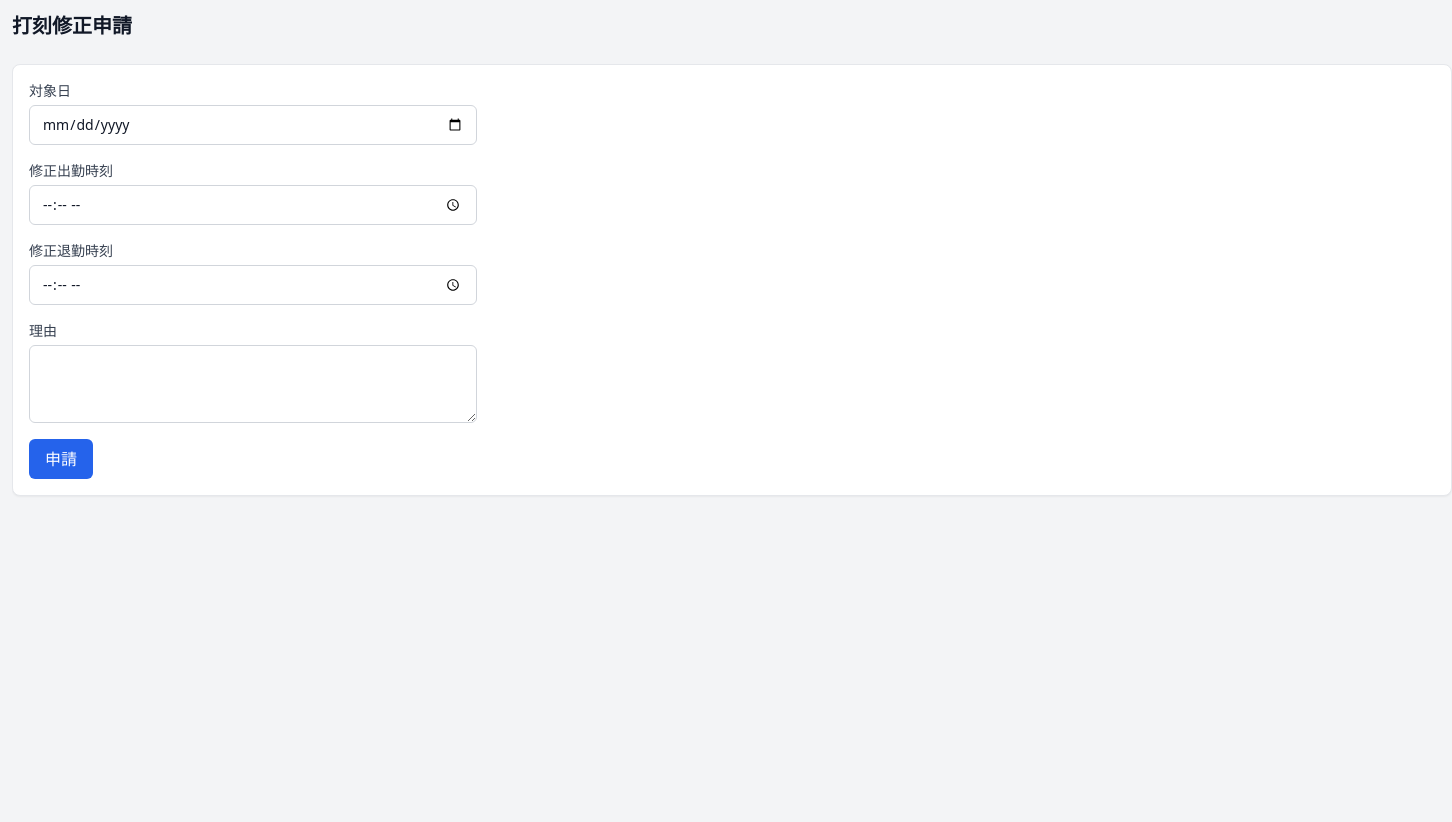
Test: CorrectionsNewPage › 理由未入力で申請するとバリデーションエラーが表示される
This screenshot has width=1452, height=822.
Type "2026-07-10" into the date field labelled "対象日".
click(253, 125); type("2026-07-10")  # box [29,105,477,145]
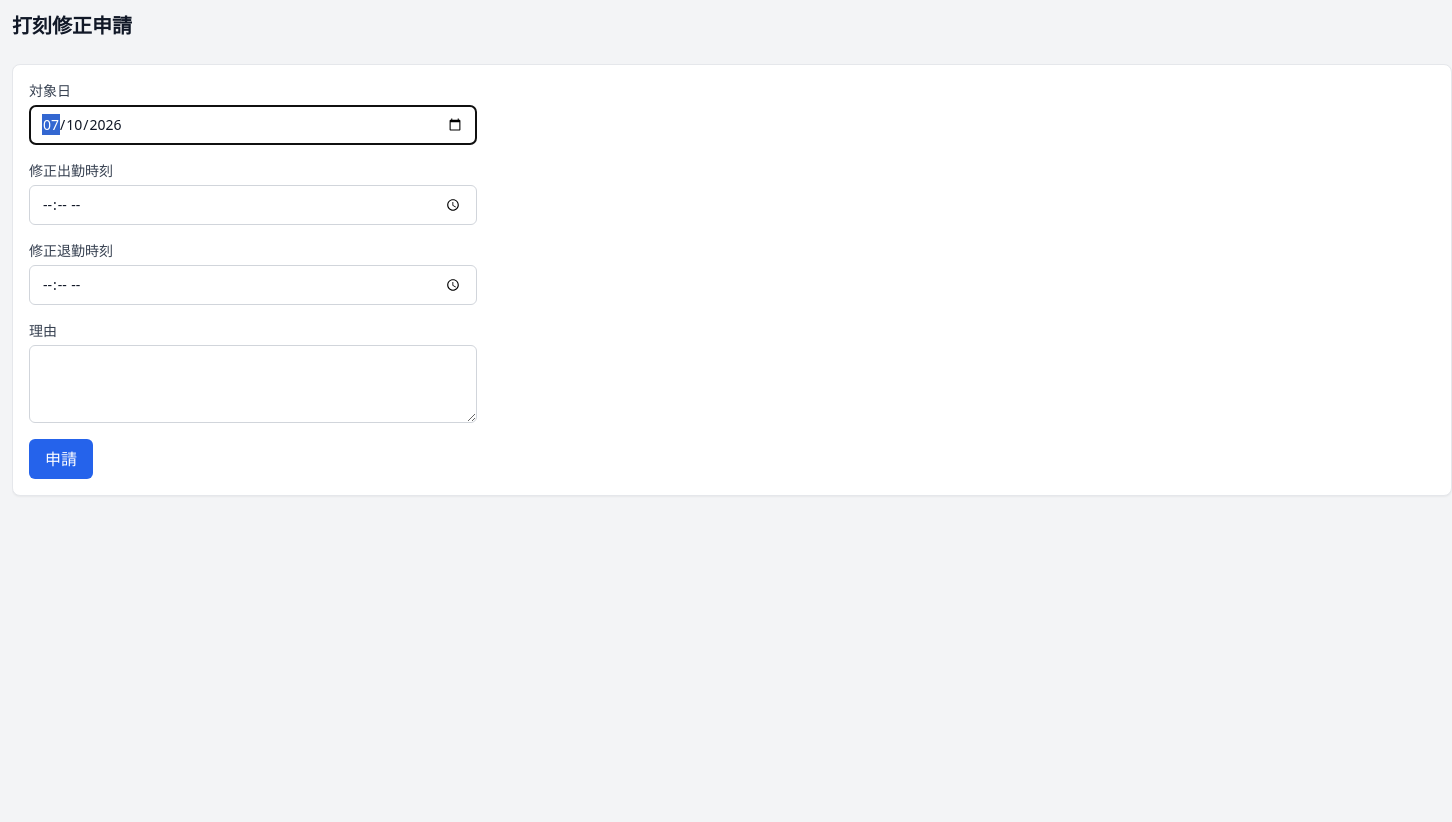
Click the button "申請".
click(61, 459)  # box [29,439,93,479]
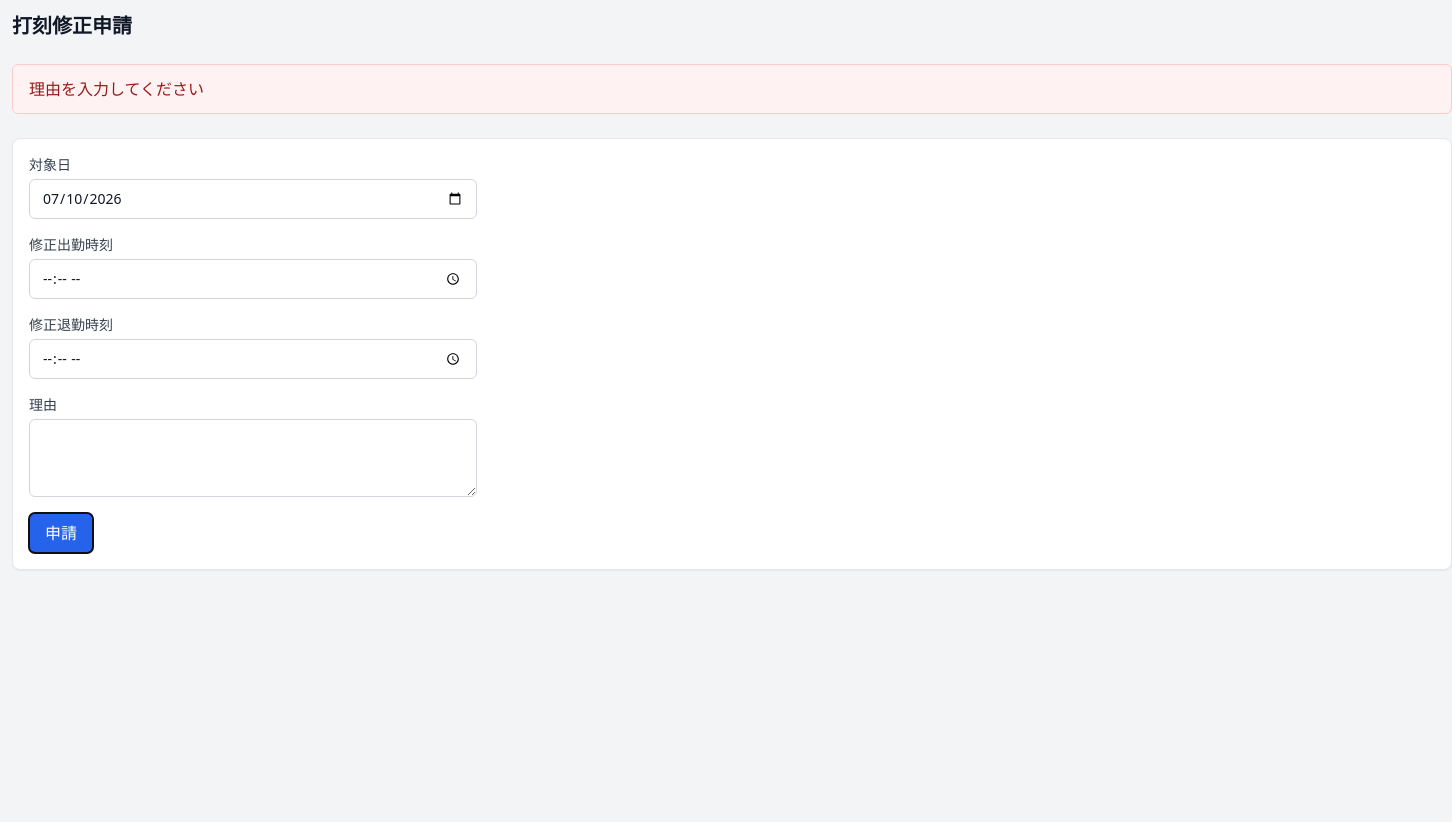
Now the text "理由を入力してください" is shown, box [12,64,1451,114]
